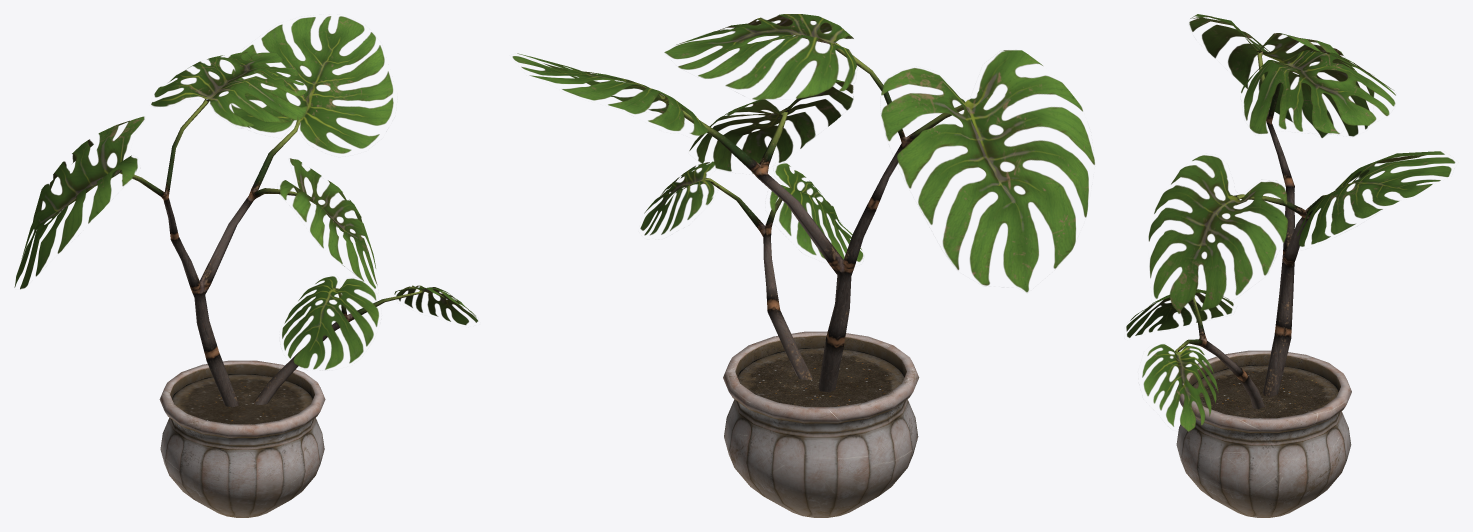
File: Potted Plant 2.glb
3 renders of one model, left to right at view 1: azimuth 30°, elevation 25°; view 2: azimuth 150°, elevation 25°; view 3: azimuth 270°, elevation 25°, orthographic. The views are drawn at different scales.
Parts seen in each view (by area): view 1: pot, leaf3, leaf1, leaf2, leaf5, branch_larger, dirt, leaf4, leaf6, branch_smaller; view 2: leaf1, pot, leaf2, branch_larger, dirt, leaf4, leaf3, leaf5, branch_smaller, leaf6; view 3: pot, leaf4, leaf2, leaf3, leaf1, dirt, branch_larger, leaf6, leaf5, branch_smaller.
Boxes of the visible parts, left/top/right/bottom form: pot: left=159, top=360, right=325, bottom=517; leaf3: left=230, top=16, right=393, bottom=153; leaf1: left=14, top=116, right=144, bottom=289; leaf2: left=151, top=52, right=307, bottom=126; leaf5: left=282, top=276, right=378, bottom=369; branch_larger: left=120, top=99, right=300, bottom=407; dirt: left=172, top=374, right=312, bottom=424; leaf4: left=280, top=158, right=377, bottom=288; leaf6: left=394, top=285, right=477, bottom=324; branch_smaller: left=254, top=288, right=424, bottom=404; leaf1: left=881, top=50, right=1094, bottom=292; pot: left=723, top=331, right=919, bottom=517; leaf2: left=664, top=14, right=856, bottom=100; branch_larger: left=667, top=43, right=963, bottom=392; dirt: left=737, top=348, right=904, bottom=406; leaf4: left=689, top=79, right=853, bottom=173; leaf3: left=512, top=53, right=709, bottom=135; leaf5: left=770, top=163, right=863, bottom=261; branch_smaller: left=705, top=177, right=812, bottom=380; leaf6: left=640, top=161, right=714, bottom=235; pot: left=1176, top=350, right=1351, bottom=517; leaf4: left=1148, top=155, right=1287, bottom=313; leaf2: left=1241, top=50, right=1395, bottom=133; leaf3: left=1297, top=151, right=1455, bottom=246; leaf1: left=1189, top=14, right=1374, bottom=137; dirt: left=1192, top=365, right=1338, bottom=418; branch_larger: left=1234, top=51, right=1326, bottom=396; leaf6: left=1142, top=344, right=1218, bottom=431; leaf5: left=1126, top=289, right=1233, bottom=337; branch_smaller: left=1175, top=297, right=1264, bottom=409.
Size of the model in its own units: 1.77 by 1.72 by 1.17.
2 materials, 2 textured.
